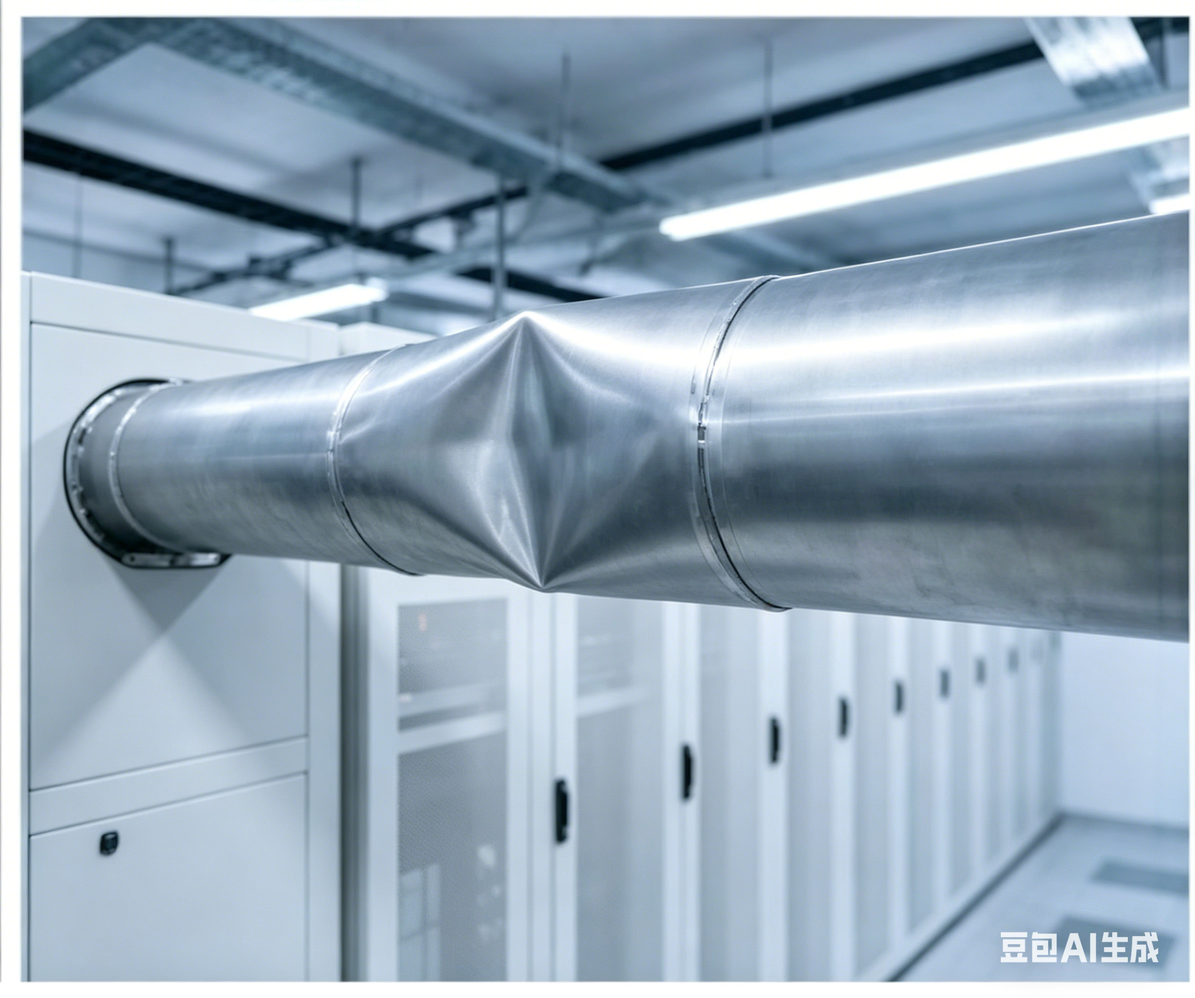Leakage: (425, 312, 637, 589)
